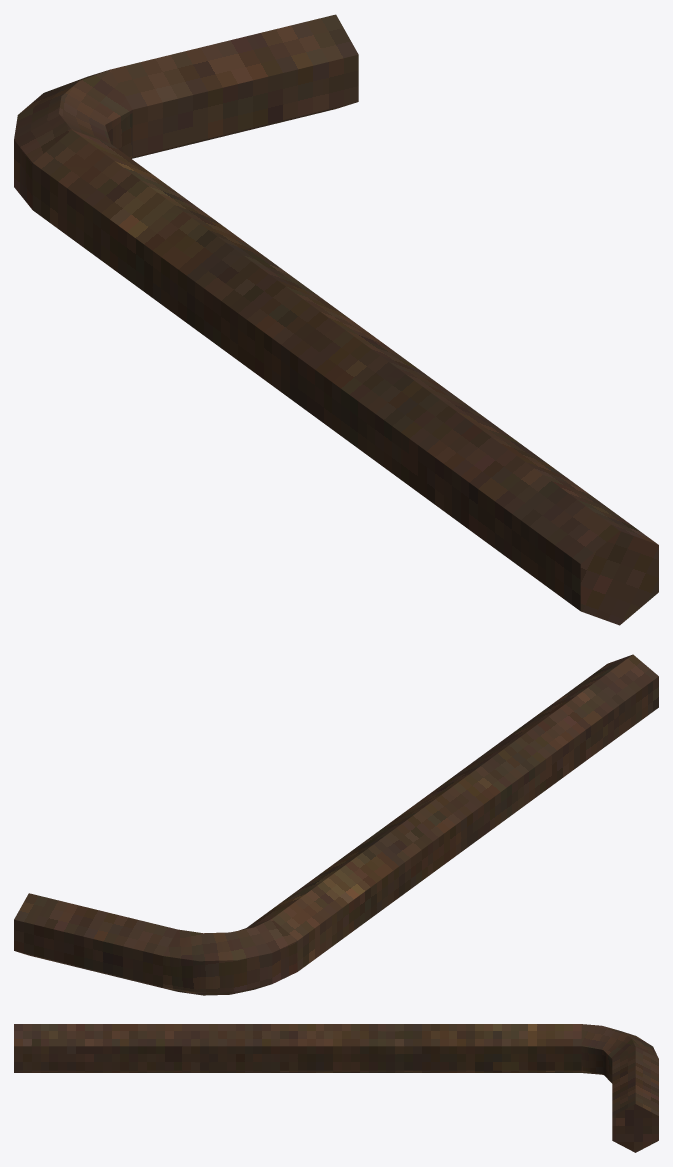
The model's file is allen_key_mx_1.glb.
3 renders of one model, top to bottom at view 1: azimuth 30°, elevation 25°; view 2: azimuth 150°, elevation 25°; view 3: azimuth 270°, elevation 25°, orthographic. The views are drawn at different scales.
Visible parts, largest first — view 1: allen_key_mx_1; view 2: allen_key_mx_1; view 3: allen_key_mx_1.
Boxes of the visible parts, <box> form: allen_key_mx_1: <box>14,14,658,625</box>; allen_key_mx_1: <box>14,654,658,995</box>; allen_key_mx_1: <box>14,1024,658,1152</box>.
Bounding box in the file's own units: 0.0787 × 0.02 × 0.2387.
Materials: 1 (1 with a texture image).
